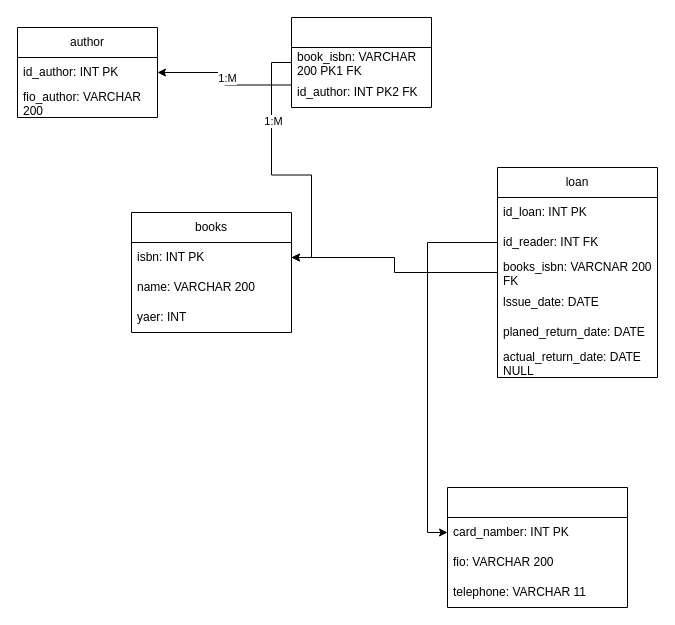
This 675x625 diagram has some shape labels left out. The box of each missing label's shape, as (x1, y1, x2, y2) in pixels:
authorship: (290, 16, 432, 108)
reader: (446, 486, 628, 608)
